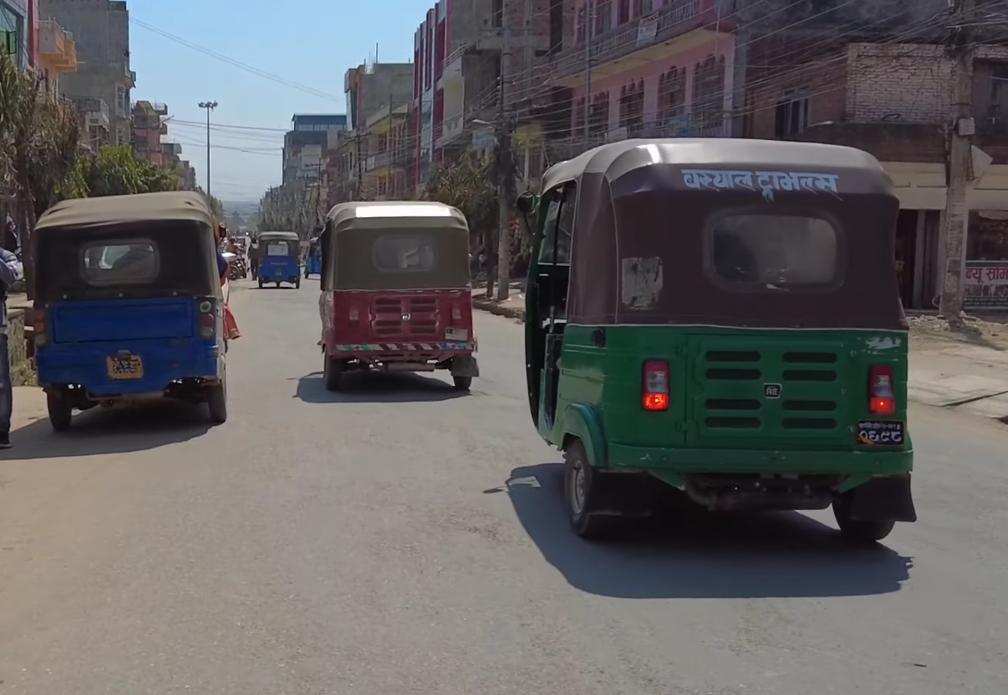auto_rickshaw: (521, 126, 927, 559), (13, 181, 249, 440), (314, 186, 487, 399), (257, 227, 305, 294)
